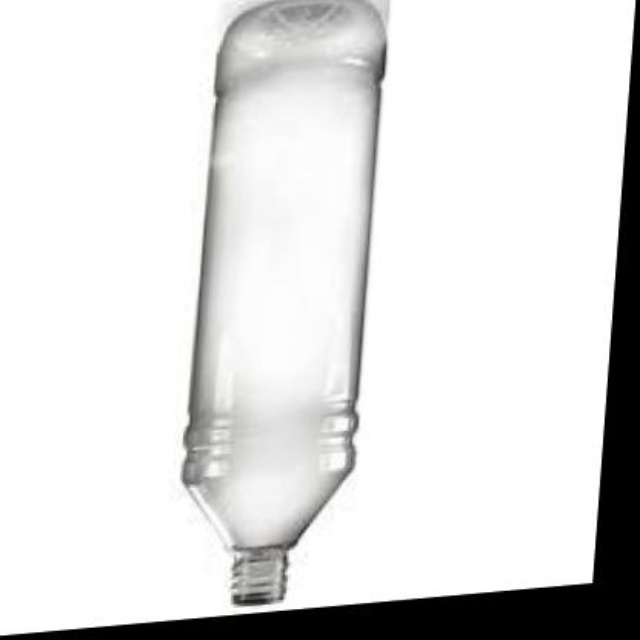trash: (183, 0, 385, 603)
